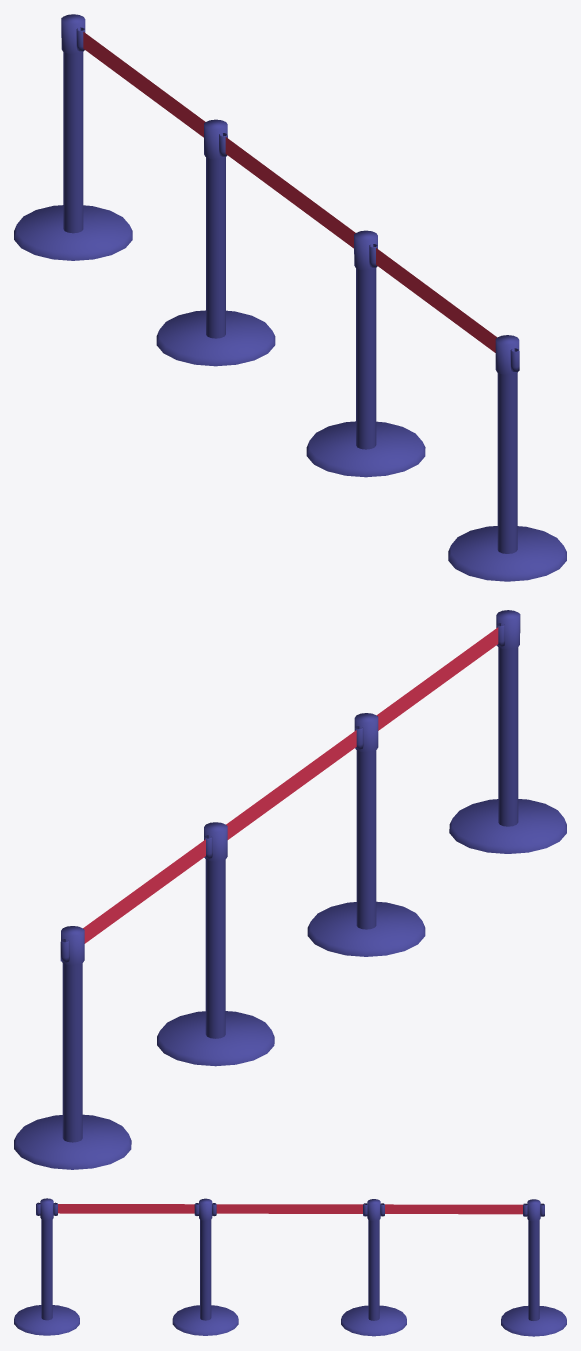
Rendered from SecurityCordonX4 (1).fbx.
3 renders of one model, top to bottom at view 1: azimuth 30°, elevation 25°; view 2: azimuth 150°, elevation 25°; view 3: azimuth 270°, elevation 25°, orthographic. The views are drawn at different scales.
Visible parts, largest first — view 1: Bank_SecurityCordon.003; view 2: Bank_SecurityCordon.003; view 3: Bank_SecurityCordon.003.
Boxes of the visible parts, x1,y1,x2,y2 form: Bank_SecurityCordon.003: (14, 14, 566, 581); Bank_SecurityCordon.003: (14, 610, 566, 1169); Bank_SecurityCordon.003: (14, 1198, 566, 1336).
Size of the model in its own units: 47.84 by 92 by 383.
1 material, 1 textured.
